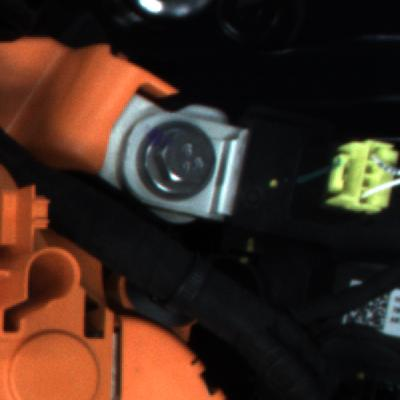nut_b: (124, 109, 219, 203)
